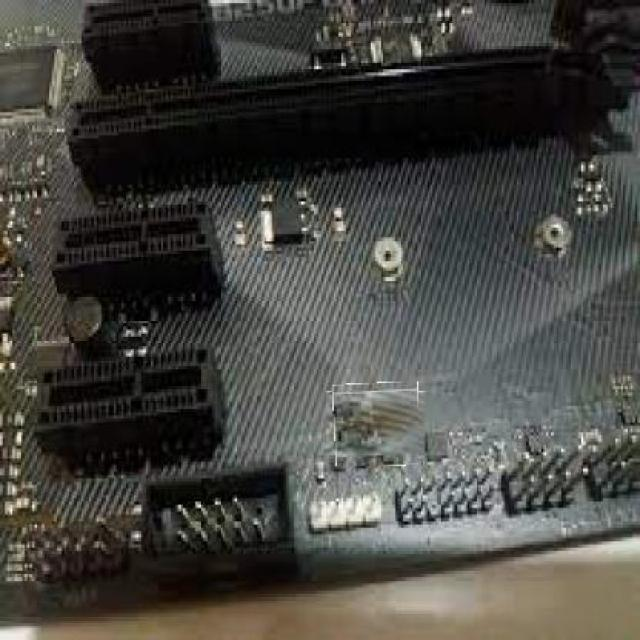Burn: (333, 382, 419, 467)
